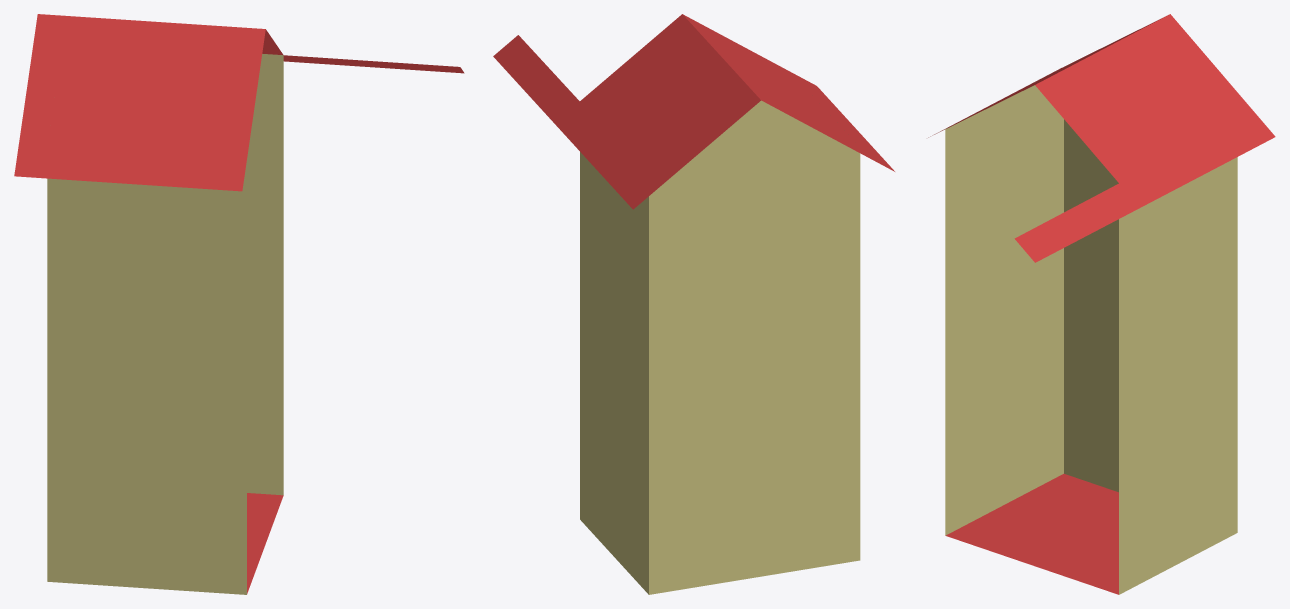
3 renders of one model, left to right at view 1: azimuth 30°, elevation 25°; view 2: azimuth 150°, elevation 25°; view 3: azimuth 270°, elevation 25°, orthographic. The views are drawn at different scales.
Size of the model in its own units: 8.7 by 6.48 by 9.78.
